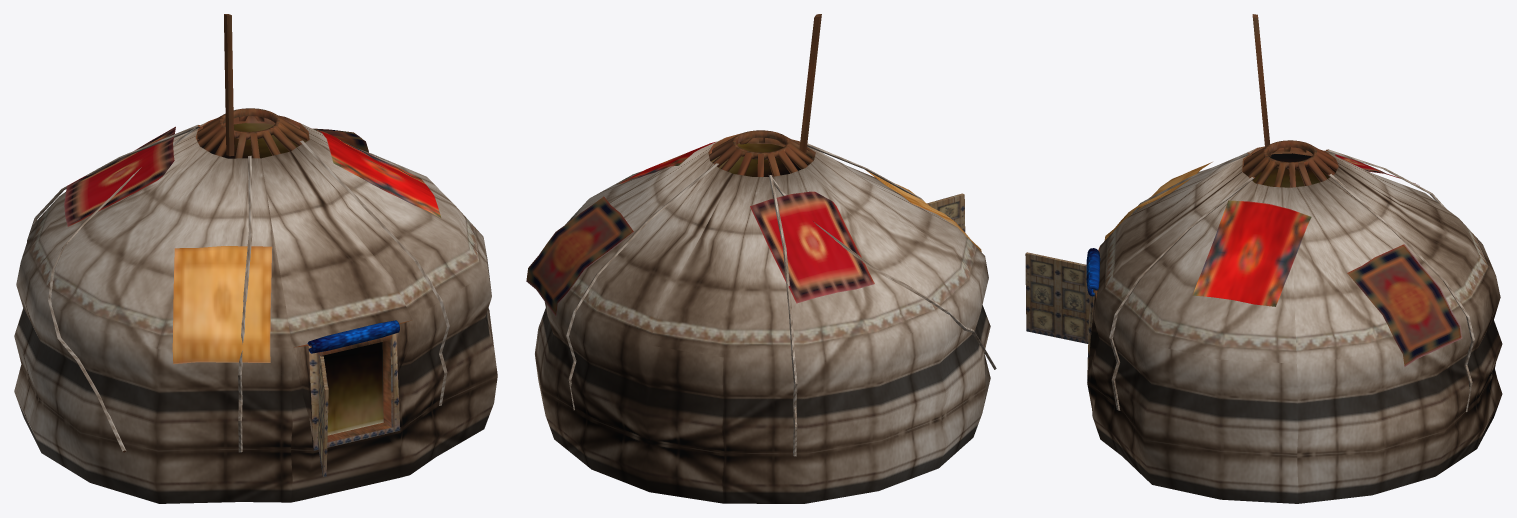
File: house_2.dae
The picture shows the model from 3 angles, left to right: view 1: azimuth 30°, elevation 25°; view 2: azimuth 150°, elevation 25°; view 3: azimuth 270°, elevation 25°; orthographic projection. The views are drawn at different scales.
Parts seen in each view (by area): view 1: house_2; view 2: house_2; view 3: house_2.
Part boxes in pixels (x1,y1,x2,y2): house_2: (14, 14, 497, 503); house_2: (526, 14, 996, 503); house_2: (1025, 14, 1502, 503).
Bounding box in the file's own units: 11.73 × 12.87 × 11.36.
